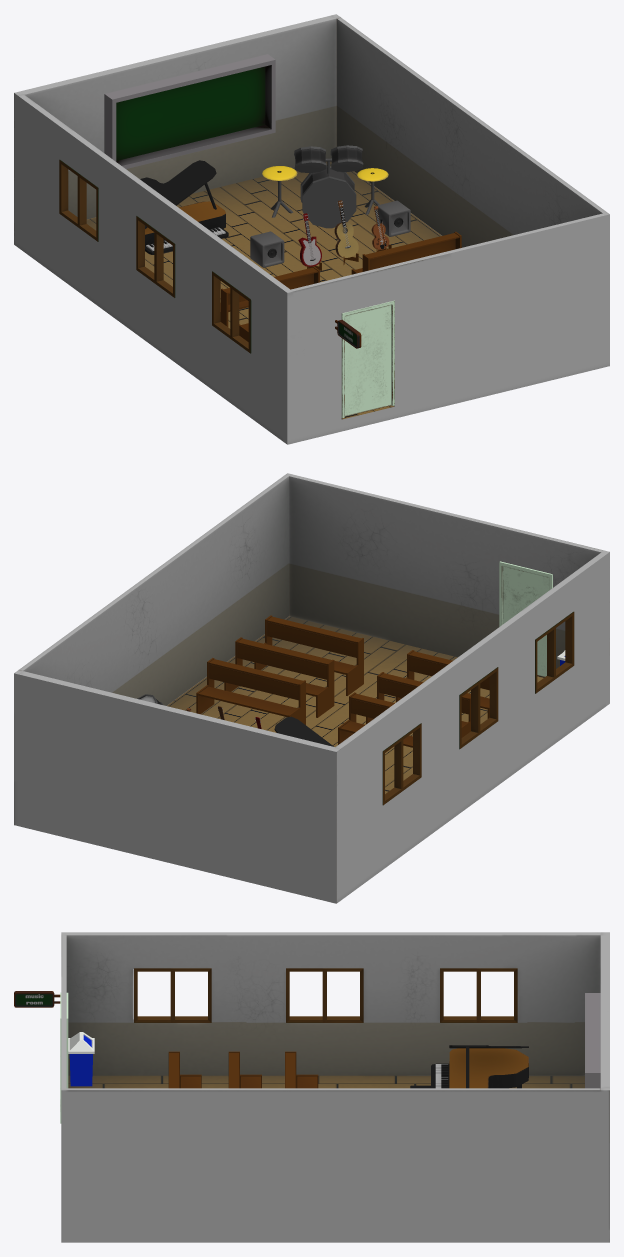
The model's file is musicroom.fbx.
The picture shows the model from 3 angles, top to bottom: view 1: azimuth 30°, elevation 25°; view 2: azimuth 150°, elevation 25°; view 3: azimuth 270°, elevation 25°; orthographic projection.
Visible parts, largest first — view 1: classroom.003, Cube.233, drum.001, Cube.220, piano, musicroomchair.001, Cube.222, Cube.231, Cube.230, musicroomchair.005, speaker.001, Cube.218 (+3 smaller); view 2: classroom.003, musicroomchair.001, musicroomchair.003, musicroomchair.002, Cube.220, Cube.230, Cube.231, Cube.222, musicroomchair.005, musicroomchair.006, musicroomchair.007, piano; view 3: classroom.003, piano, Cube.233, Cube.222, Cube.230, Cube.231, Cube.232, musicroomchair.006, musicroomchair.007, musicroomchair.005, classroomname.010, Cube.218.
Boxes of the visible parts, x1,y1,x2,y2 form: classroom.003: (14, 14, 609, 444); Cube.233: (104, 54, 275, 168); drum.001: (262, 145, 388, 228); Cube.220: (345, 305, 391, 416); piano: (140, 160, 228, 254); musicroomchair.001: (351, 231, 461, 274); Cube.222: (59, 159, 98, 241); Cube.231: (212, 271, 251, 353); Cube.230: (136, 216, 175, 297); musicroomchair.005: (220, 266, 319, 326); speaker.001: (250, 231, 284, 267); Cube.218: (341, 300, 394, 418); classroom.003: (14, 473, 609, 903); musicroomchair.001: (196, 658, 305, 724); musicroomchair.003: (254, 615, 363, 695); musicroomchair.002: (224, 637, 334, 717); Cube.220: (502, 566, 549, 676); Cube.230: (459, 667, 498, 749); Cube.231: (535, 611, 574, 693); Cube.222: (382, 723, 421, 805); musicroomchair.005: (338, 692, 412, 747); musicroomchair.006: (366, 672, 470, 737); musicroomchair.007: (396, 650, 489, 718); piano: (274, 716, 333, 746); classroom.003: (61, 932, 609, 1242); piano: (431, 1045, 528, 1088); Cube.233: (585, 993, 600, 1088); Cube.222: (440, 968, 517, 1022); Cube.230: (286, 968, 363, 1022); Cube.231: (134, 968, 211, 1022); Cube.232: (68, 1032, 94, 1086); musicroomchair.006: (228, 1051, 261, 1088); musicroomchair.007: (168, 1051, 201, 1088); musicroomchair.005: (285, 1051, 318, 1088); classroomname.010: (14, 991, 60, 1007); Cube.218: (60, 992, 68, 1123).
Size of the model in its own units: 395 by 177 by 629.
Materials: 6 (6 with a texture image).
